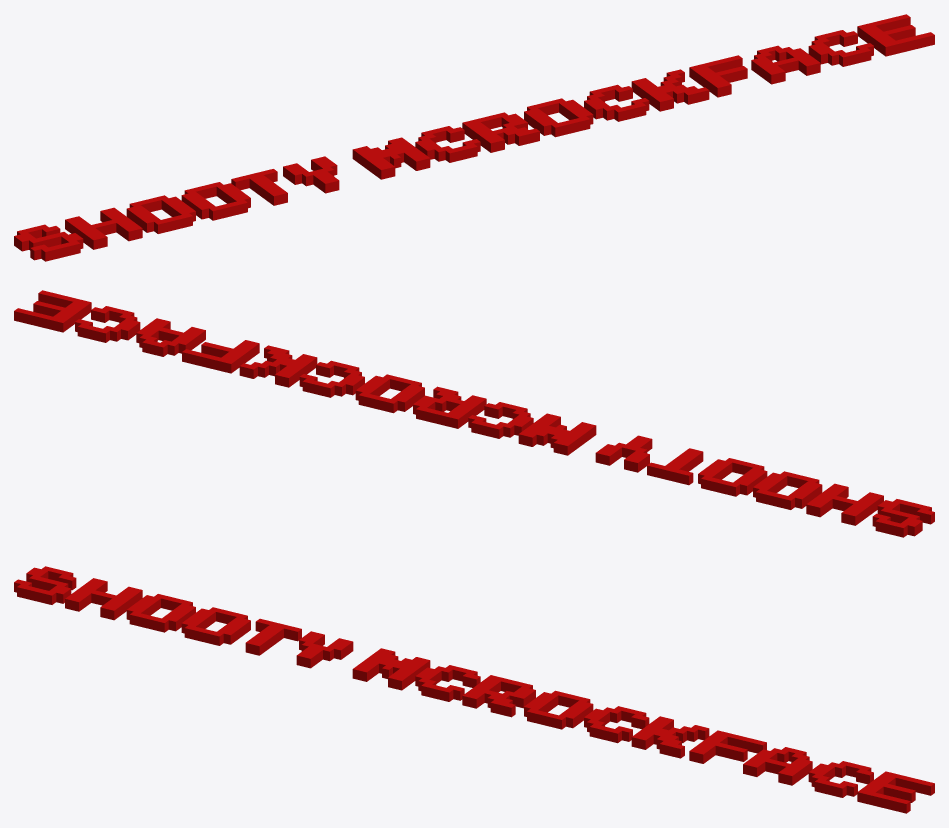
Rendered from Shooty.obj.
The picture shows the model from 3 angles, top to bottom: view 1: azimuth 30°, elevation 25°; view 2: azimuth 150°, elevation 25°; view 3: azimuth 330°, elevation 25°; orthographic projection.
Parts seen in each view (by area): view 1: Shooty; view 2: Shooty; view 3: Shooty.
Part boxes in pixels (left/top/right/bottom): Shooty: left=14, top=14, right=934, bottom=261; Shooty: left=14, top=290, right=934, bottom=537; Shooty: left=14, top=566, right=934, bottom=813.
Bounding box in the file's own units: 9.81 × 0.1 × 0.5415.
